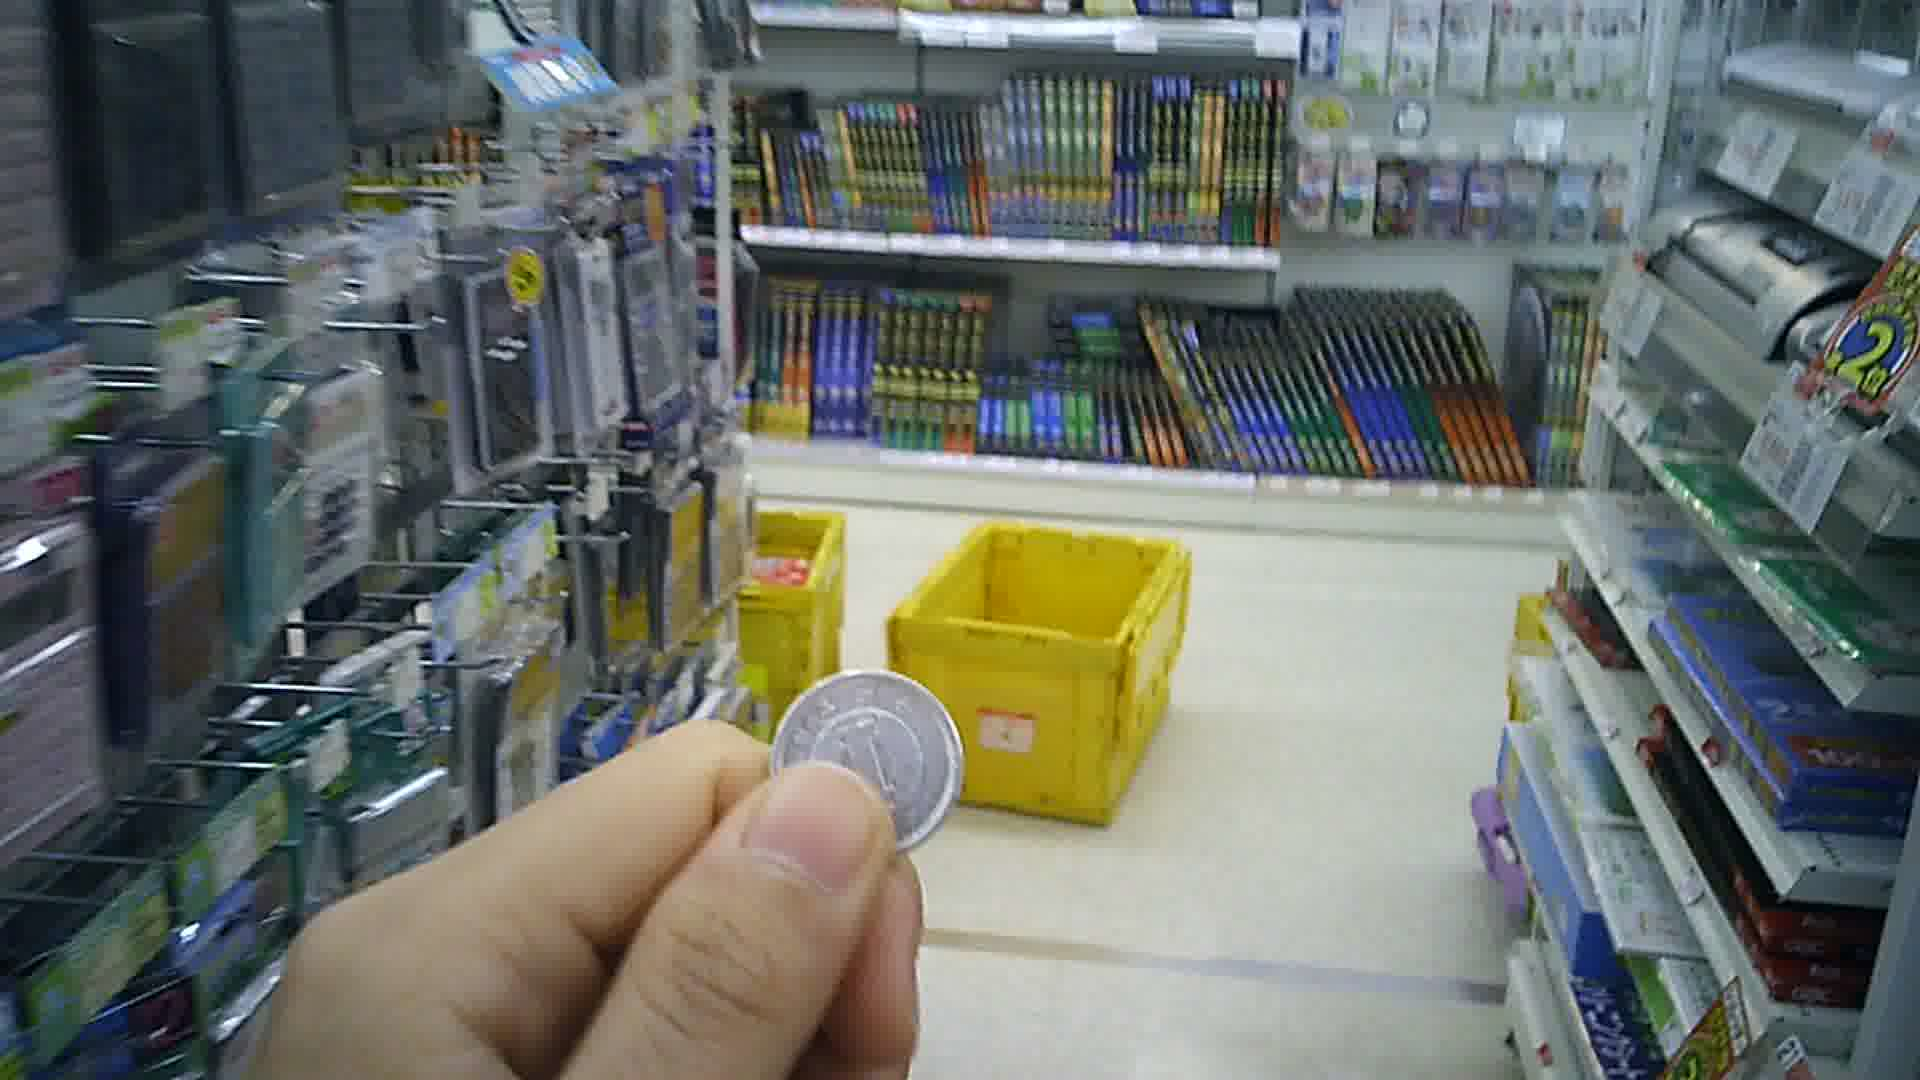1 Yen: (754, 651, 978, 864)
